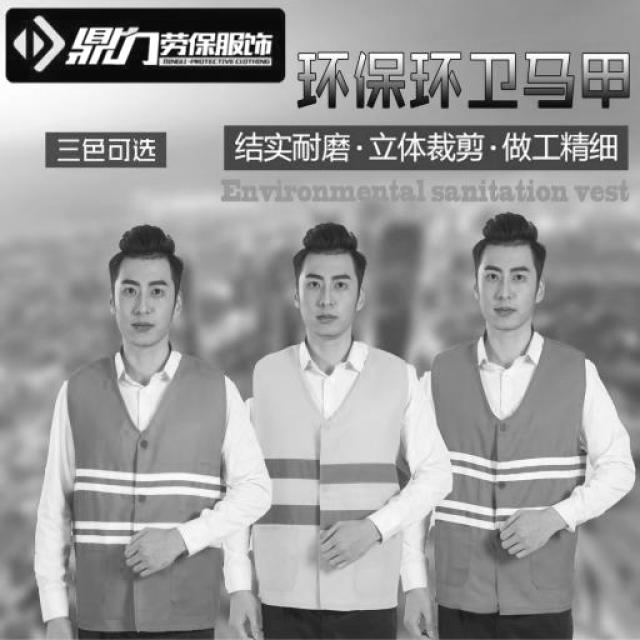face_nomask: (111, 270, 179, 346), (478, 260, 536, 325), (301, 268, 357, 334)
hand_noglove: (314, 514, 384, 570), (497, 500, 562, 560), (122, 518, 184, 578), (399, 585, 450, 640), (223, 587, 270, 640)
head_nohelmet: (292, 219, 366, 271), (104, 223, 186, 269), (475, 210, 546, 258)
person: (212, 199, 458, 640), (29, 210, 272, 640), (404, 207, 639, 640)
vest: (62, 348, 223, 631), (250, 344, 414, 612), (436, 333, 590, 613)
